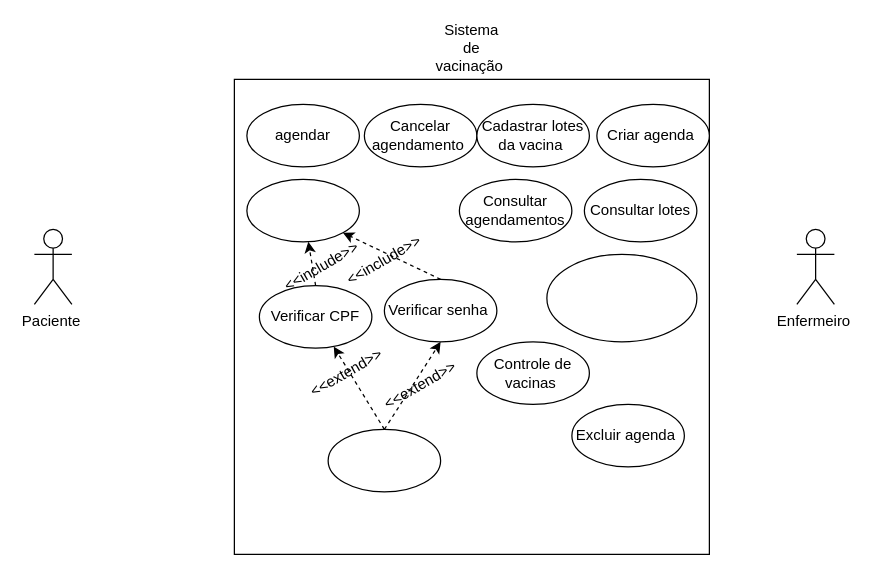
Image size: 875x576. Some labels were removed from this diagram. The centre of each missing label's shape, as x and y in pixels:
"Baixar comprovante de agendamento" goes at (x=621, y=297).
"Erro" goes at (x=384, y=460).
"Logar" goes at (x=302, y=210).
